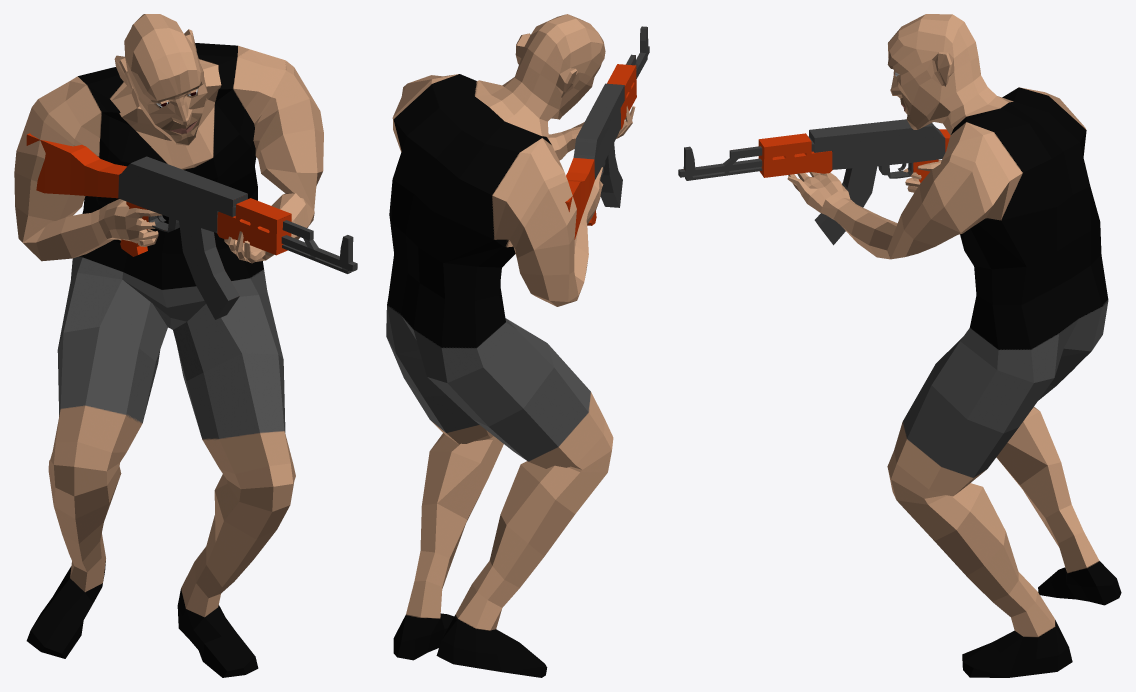
File: PlayerWalk(15).obj
3 renders of one model, left to right at view 1: azimuth 30°, elevation 25°; view 2: azimuth 150°, elevation 25°; view 3: azimuth 270°, elevation 25°, orthographic. The views are drawn at different scales.
Parts seen in each view (by area): view 1: Plane002, Object001; view 2: Plane002, Object001; view 3: Plane002, Object001.
Boxes of the visible parts, x1,y1,x2,y2 form: Plane002: (14,14,323,677); Object001: (26,133,357,319); Plane002: (386,14,635,677); Object001: (565,26,649,239); Plane002: (787,14,1121,677); Object001: (678,119,950,245).
Size of the model in its own units: 591 by 1581 by 1040.
